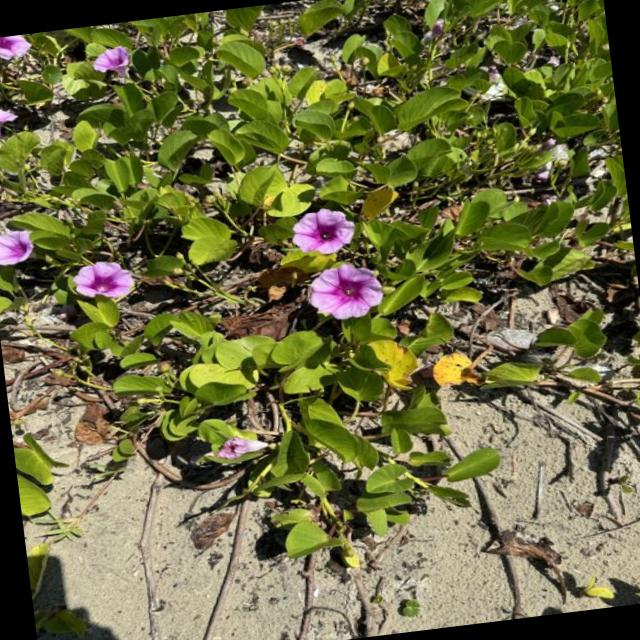ipomoea: (299, 257, 389, 327), (284, 202, 361, 261), (66, 255, 140, 308), (424, 346, 486, 395), (205, 430, 272, 468), (86, 42, 136, 83), (0, 225, 40, 271), (0, 32, 37, 68)
